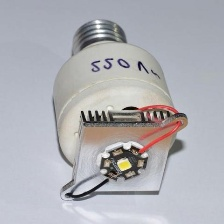light_bulb: (48, 16, 190, 205)
